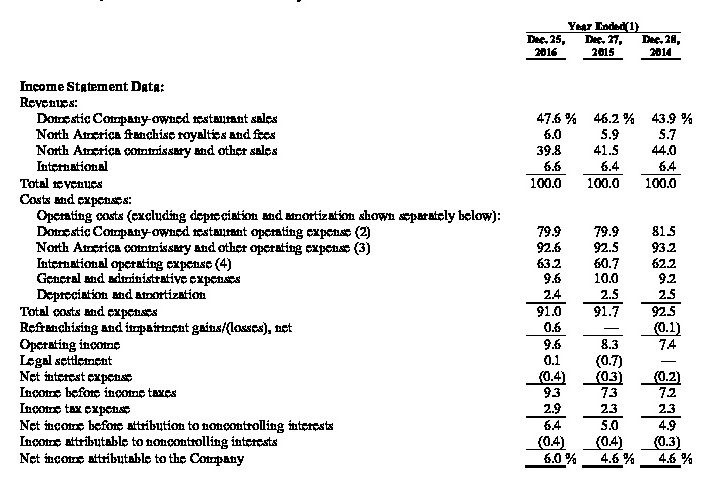table: (0, 0, 709, 486)
